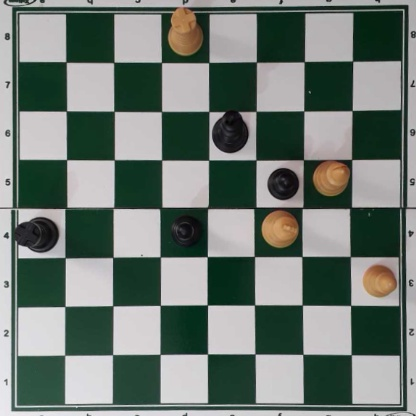black-king: (209, 110, 250, 152)
black-pawn: (267, 165, 299, 200), (171, 213, 201, 247)
black-rook: (15, 216, 60, 254)
white-bishop: (312, 161, 351, 197)
white-king: (262, 208, 298, 248)
white-pawn: (361, 262, 397, 298)
white-rook: (166, 7, 205, 54)
